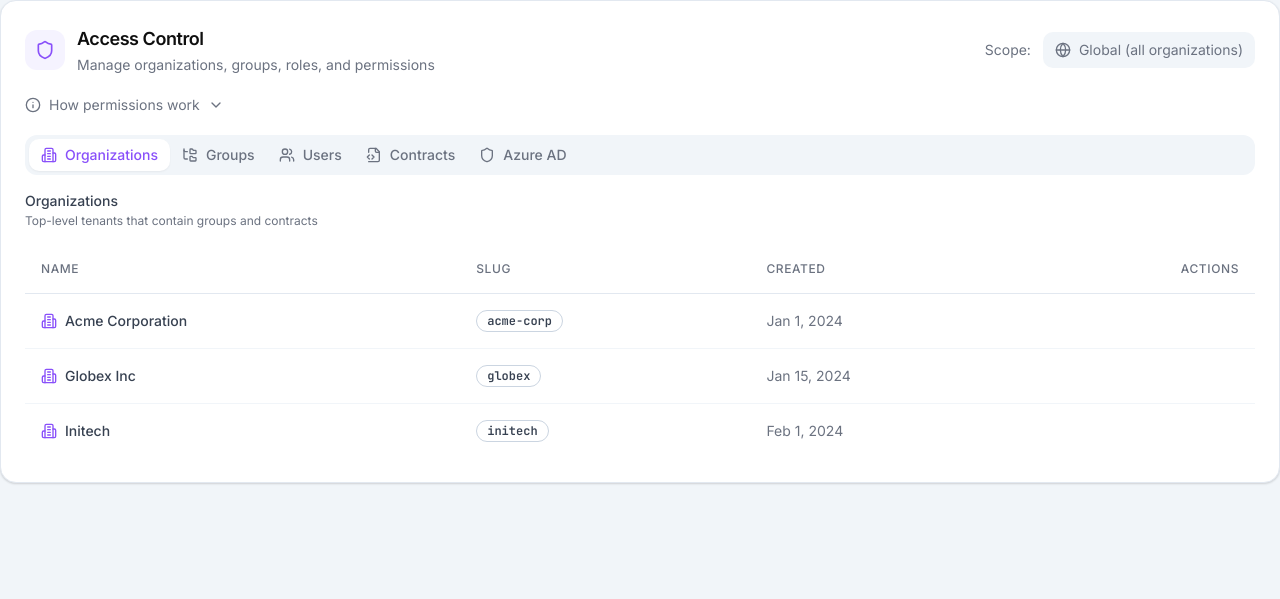
it: RBACManager Integration Tests › Tab Navigation › shows organization selector on Users tab
The width and height of the screenshot is (1280, 599).
Click the tab with test id "tab-users".
click(310, 155)  # box [267, 139, 354, 171]
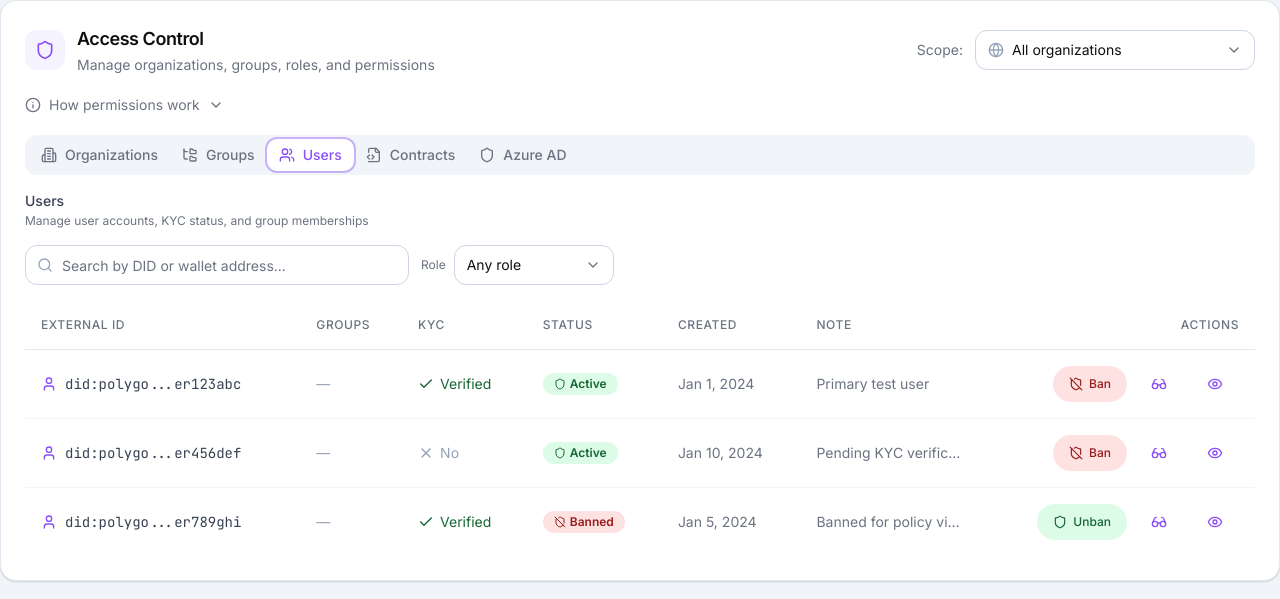
Expected: the dropdown with test id "org-selector" is shown, [975, 30, 1255, 70]
Expected: the text "Global (all organizations)" is gone
